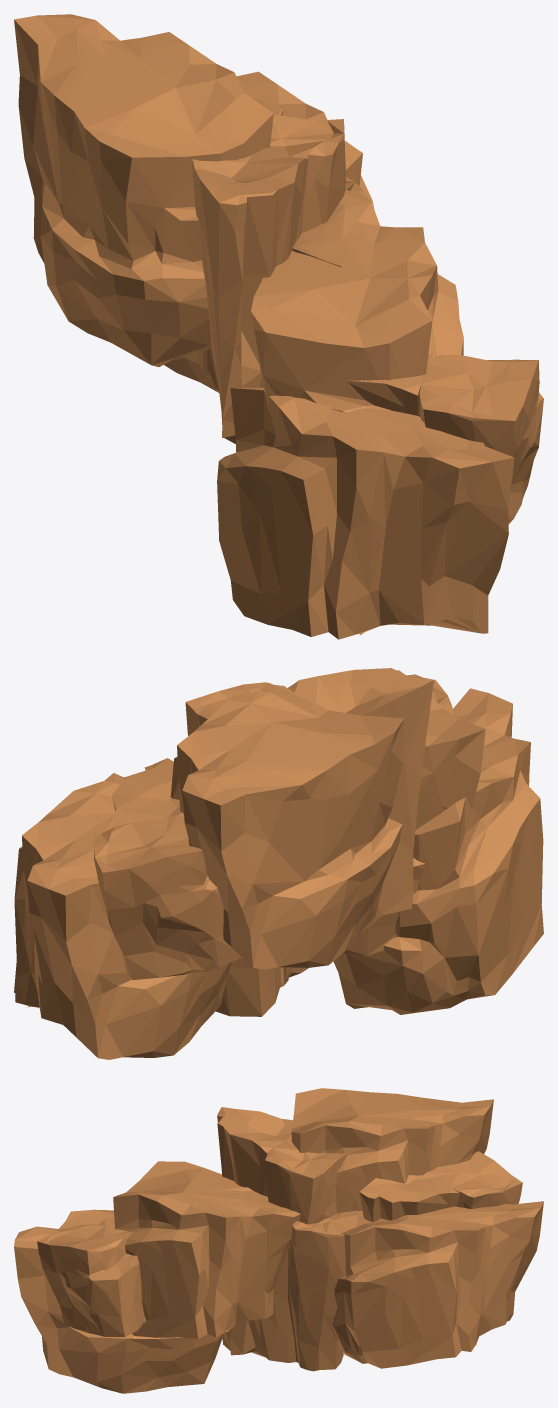
The model's file is enviornmentSet07.fbx.
3 views of the same model, one above another, from view 1: azimuth 30°, elevation 25°; view 2: azimuth 150°, elevation 25°; view 3: azimuth 270°, elevation 25° (orthographic). The views are drawn at different scales.
Visible parts, largest first — view 1: rock0 (6), rock0 (3), rock0 (5), rock1 (3), rock1 (6), rock0 (4); view 2: rock0 (3), rock0 (6), rock0 (4), rock1 (4), rock1 (3), rock0 (5), rock1 (5); view 3: rock0 (4), rock0 (5), rock0 (3), rock0 (6), rock1 (5), rock1 (6), rock1 (3), rock1 (4).
Boxes of the visible parts, box(x1,y1,x2,y2) form: rock0 (6): box(217, 387, 514, 639); rock0 (3): box(14, 14, 273, 366); rock0 (5): box(251, 190, 463, 412); rock1 (3): box(192, 114, 345, 437); rock1 (6): box(348, 352, 543, 523); rock0 (4): box(164, 71, 374, 392); rock0 (3): box(170, 683, 404, 969); rock0 (6): box(333, 688, 543, 1014); rock0 (4): box(14, 773, 231, 1059); rock1 (4): box(93, 758, 241, 979); rock1 (3): box(185, 668, 433, 916); rock0 (5): box(343, 670, 485, 955); rock1 (5): box(215, 958, 308, 1016); rock0 (4): box(333, 1201, 543, 1368); rock0 (5): box(113, 1161, 300, 1338); rock0 (3): box(291, 1088, 493, 1213); rock0 (6): box(14, 1209, 222, 1393); rock1 (5): box(206, 1187, 358, 1371); rock1 (6): box(37, 1217, 145, 1336); rock1 (3): box(217, 1107, 347, 1224); rock1 (4): box(359, 1151, 522, 1222).
Size of the model in its own units: 5.34 by 6.83 by 12.55.
